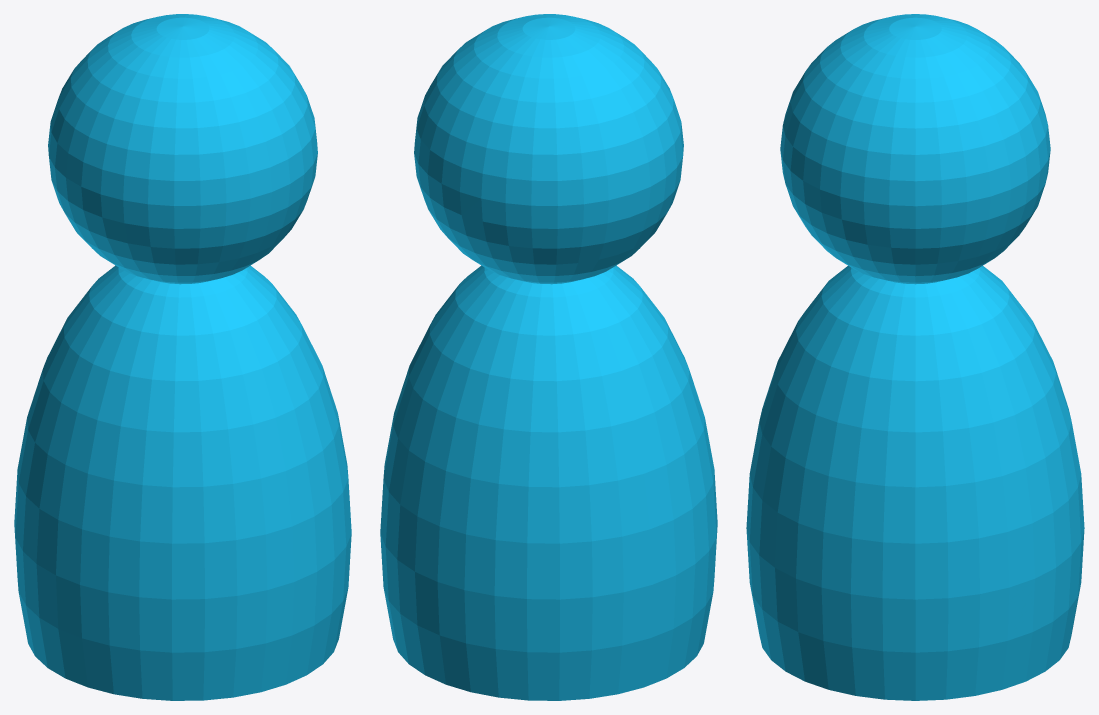
Rendered from player1.obj.
3 views of the same model, side by side, from view 1: azimuth 30°, elevation 25°; view 2: azimuth 150°, elevation 25°; view 3: azimuth 270°, elevation 25° (orthographic).
Parts seen in each view (by area): view 1: 球; view 2: 球; view 3: 球.
Part boxes in pixels (x1,y1,x2,y2): 球: (14, 14, 351, 700); 球: (380, 14, 717, 700); 球: (746, 14, 1084, 700).
Bounding box in the file's own units: 1 × 1.99 × 1.
Materials: 1 (1 with a texture image).
